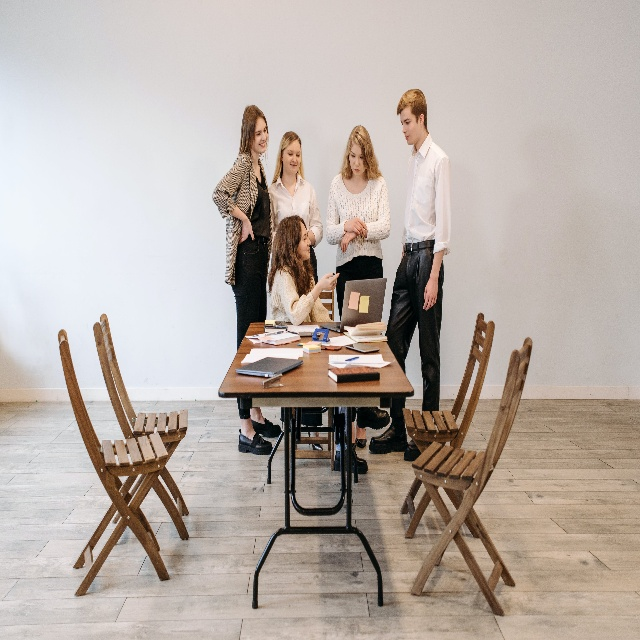Sin_guantes: (423, 278, 438, 311), (317, 271, 340, 292), (345, 216, 368, 237), (238, 219, 255, 244), (340, 230, 356, 253)
